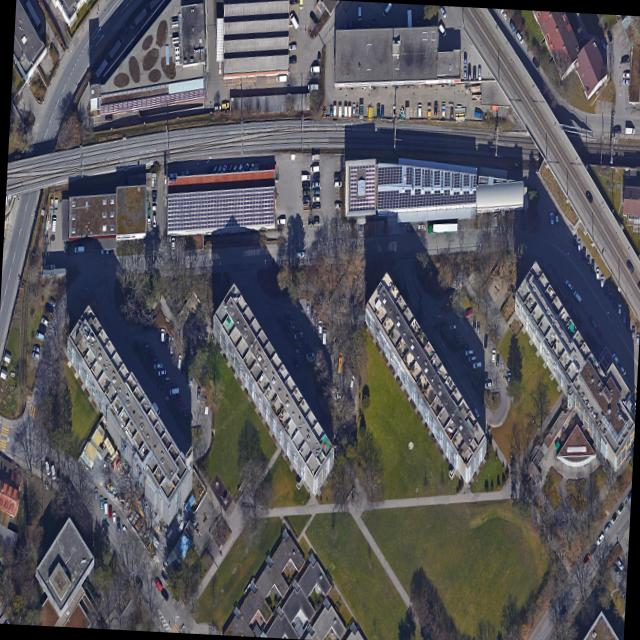large-vehicle: (428, 223, 458, 234), (289, 13, 299, 30), (573, 290, 582, 305), (152, 401, 161, 416), (42, 263, 56, 272), (383, 4, 392, 18), (155, 578, 163, 592), (439, 24, 447, 38), (516, 32, 524, 45), (338, 353, 343, 373), (510, 22, 517, 35), (45, 461, 51, 476), (74, 246, 85, 254), (276, 75, 287, 83), (51, 465, 56, 481), (625, 128, 636, 135), (170, 388, 179, 396), (36, 332, 44, 341), (475, 111, 484, 119), (177, 355, 182, 369), (308, 84, 318, 91), (310, 166, 320, 173), (408, 10, 412, 27), (311, 66, 320, 73), (301, 175, 310, 182), (147, 209, 151, 224), (104, 500, 108, 515), (450, 107, 454, 122), (323, 330, 327, 345), (494, 213, 498, 227), (358, 7, 362, 21), (52, 218, 56, 232), (277, 219, 286, 225), (491, 105, 500, 111), (333, 104, 337, 117), (338, 105, 342, 118), (344, 105, 348, 118), (442, 105, 446, 118), (418, 105, 422, 118), (299, 0, 304, 10), (312, 155, 320, 161), (319, 321, 322, 335), (161, 329, 164, 342), (428, 106, 431, 119), (348, 105, 351, 118)
small-vehicle: (596, 532, 605, 547), (135, 574, 143, 590), (292, 357, 301, 371), (45, 302, 54, 315), (626, 260, 635, 273), (565, 279, 574, 292), (589, 543, 598, 556), (439, 7, 448, 20), (310, 11, 318, 25), (589, 315, 597, 329), (606, 30, 614, 44), (473, 406, 481, 420), (41, 316, 50, 328), (582, 554, 591, 566), (349, 375, 356, 390), (161, 589, 169, 602), (242, 162, 250, 175), (596, 327, 604, 340), (585, 191, 593, 204), (616, 558, 624, 571), (617, 503, 625, 516), (611, 512, 619, 525), (532, 56, 540, 69), (600, 38, 607, 52), (161, 571, 169, 583), (613, 564, 621, 576), (604, 522, 612, 534), (549, 211, 555, 227), (612, 352, 619, 365), (464, 309, 474, 318), (39, 324, 47, 335), (237, 163, 244, 175), (620, 365, 627, 377), (157, 369, 167, 377), (181, 169, 191, 177), (500, 9, 508, 19), (472, 361, 482, 369), (221, 164, 228, 175), (216, 164, 223, 175), (472, 66, 477, 81), (334, 181, 343, 189), (306, 352, 315, 360), (294, 331, 303, 339), (465, 349, 474, 357), (197, 387, 202, 401), (231, 164, 238, 174), (631, 326, 636, 340), (330, 342, 335, 356), (334, 202, 344, 209), (463, 67, 468, 81), (604, 282, 609, 295), (582, 248, 587, 261), (476, 322, 481, 335), (491, 350, 496, 363), (484, 335, 489, 348), (151, 356, 159, 364), (142, 343, 150, 351), (484, 381, 492, 389), (469, 355, 477, 363), (154, 363, 163, 370), (162, 376, 171, 383), (221, 102, 230, 109), (169, 173, 178, 180), (146, 350, 155, 357), (296, 252, 305, 259), (312, 196, 321, 203), (50, 298, 56, 308), (595, 269, 600, 281), (613, 297, 618, 309), (311, 305, 315, 320), (478, 66, 482, 81), (117, 518, 121, 532), (32, 352, 40, 359), (33, 345, 40, 353), (165, 334, 169, 348), (289, 44, 297, 51), (352, 103, 356, 117), (622, 57, 630, 64), (306, 299, 310, 313), (312, 189, 320, 196), (312, 181, 320, 188), (449, 324, 457, 331), (472, 316, 476, 330), (481, 375, 489, 382), (507, 372, 512, 383), (312, 203, 321, 209), (461, 343, 470, 349), (100, 496, 104, 509), (317, 53, 321, 66), (600, 276, 604, 289), (591, 261, 595, 274), (627, 318, 631, 331), (464, 53, 468, 66), (313, 174, 320, 181), (174, 396, 182, 402), (329, 105, 333, 117), (289, 58, 297, 64), (214, 106, 222, 112), (334, 175, 342, 181), (618, 304, 622, 316), (302, 183, 310, 189), (555, 212, 559, 224), (573, 235, 577, 247), (623, 312, 627, 324), (393, 106, 397, 118), (381, 105, 385, 117), (622, 79, 630, 85), (613, 127, 621, 133), (334, 394, 342, 400), (303, 197, 311, 203), (112, 513, 116, 524), (623, 73, 630, 79), (468, 67, 471, 81), (435, 102, 438, 116), (311, 219, 319, 224), (636, 334, 640, 344), (302, 191, 310, 196), (496, 356, 500, 366), (109, 505, 112, 518), (153, 215, 156, 228), (172, 237, 175, 250), (377, 104, 380, 117), (95, 489, 98, 501), (587, 255, 590, 267), (578, 240, 581, 252)
